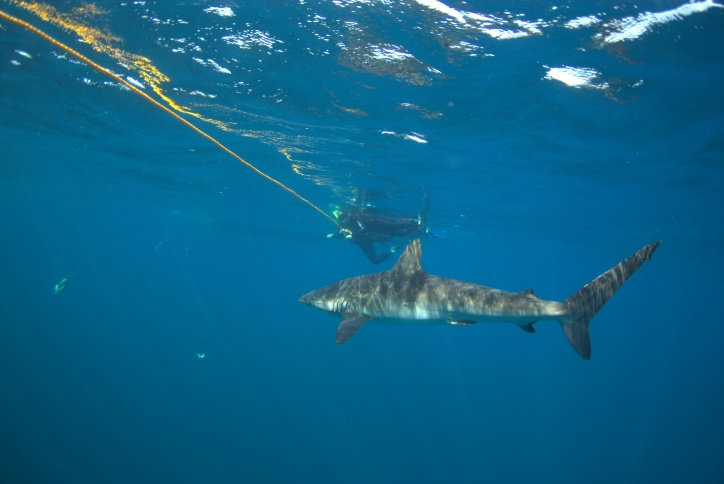Sedoso: (288, 233, 670, 362)
